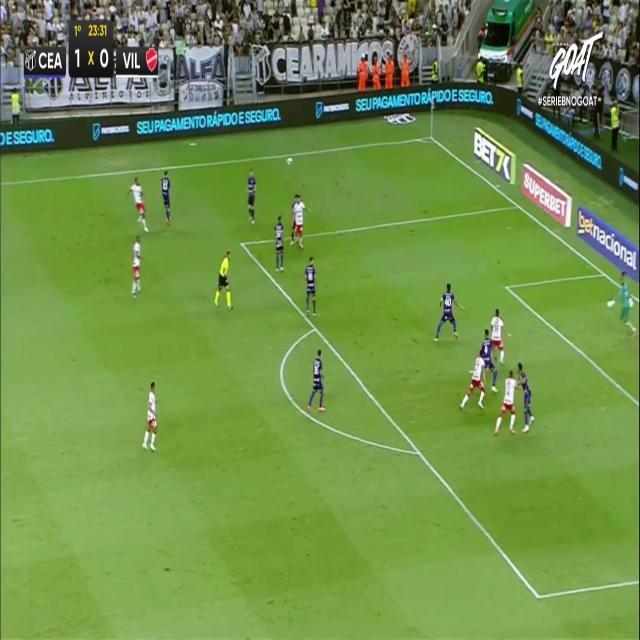ball: (285, 156, 295, 168)
goalkeeper: (606, 268, 636, 335)
player: (460, 341, 493, 410), (434, 282, 462, 341), (494, 370, 517, 435), (487, 307, 509, 368), (517, 361, 535, 432), (128, 176, 149, 232), (306, 350, 324, 412), (142, 380, 156, 451), (290, 194, 308, 248), (304, 256, 317, 316), (274, 214, 285, 271), (160, 169, 171, 224), (246, 168, 256, 224), (132, 236, 141, 297)
referee: (214, 250, 232, 309)
